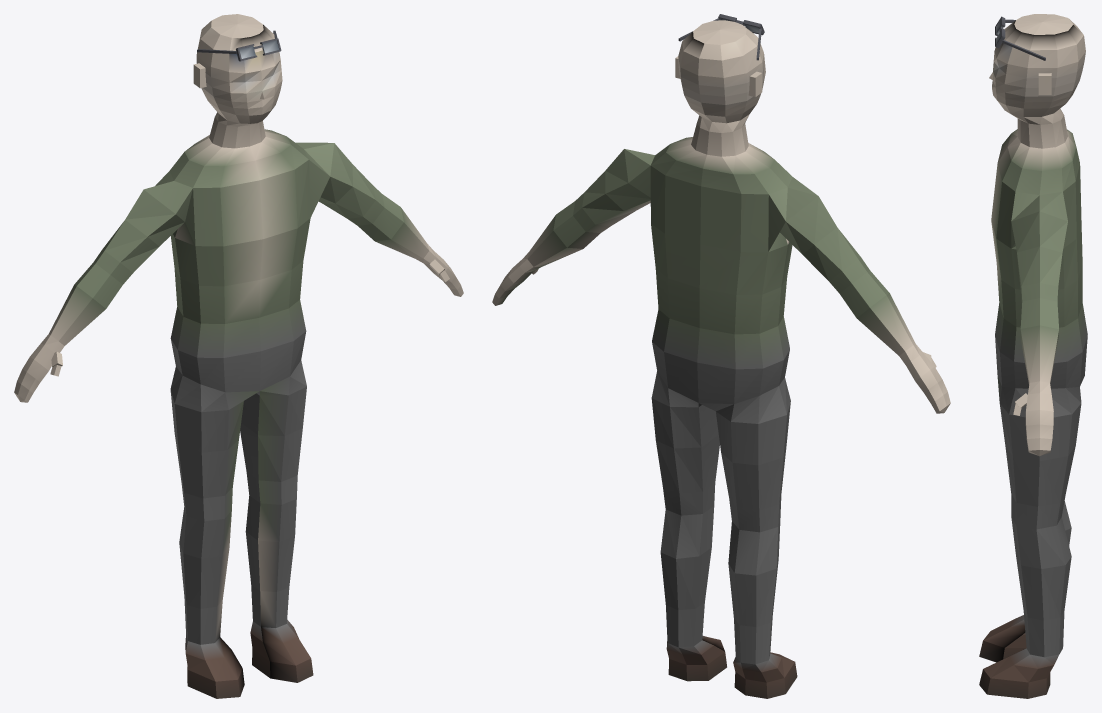
Rendered from char__pessoa__multidao_16.glb.
3 views of the same model, side by side, from view 1: azimuth 30°, elevation 25°; view 2: azimuth 150°, elevation 25°; view 3: azimuth 270°, elevation 25° (orthographic).
Visible parts, largest first — view 1: char__pessoa__multidao_16; view 2: char__pessoa__multidao_16; view 3: char__pessoa__multidao_16.
Part boxes in pixels (x1,y1,x2,y2): char__pessoa__multidao_16: (14, 14, 463, 698); char__pessoa__multidao_16: (492, 14, 950, 698); char__pessoa__multidao_16: (979, 14, 1087, 698).
Bounding box in the file's own units: 1.27 × 1.77 × 0.2673.
